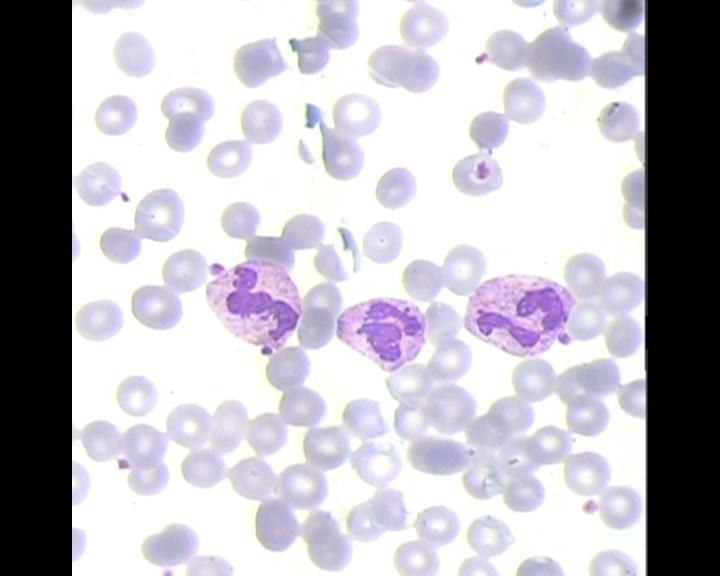neut: (465, 266, 576, 362), (200, 253, 302, 354), (334, 284, 428, 373)
